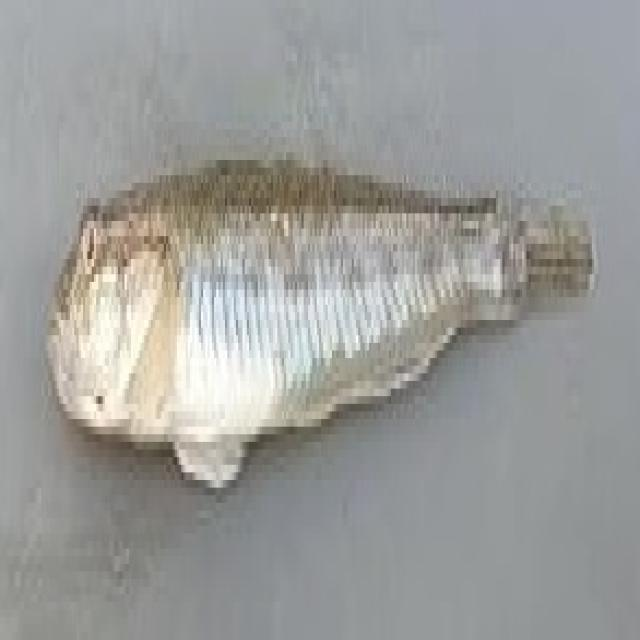Goby: (17, 41, 609, 555)
